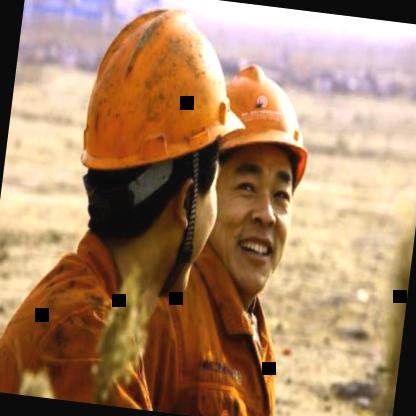helmet: (42, 0, 246, 307), (179, 46, 330, 308)
